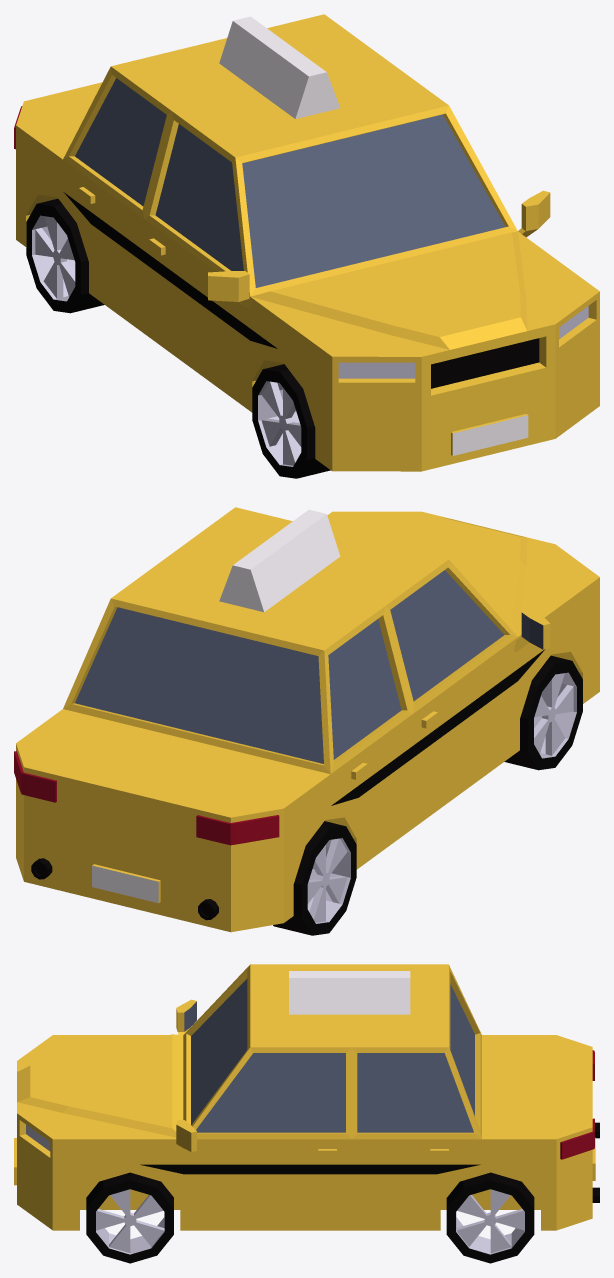
Rendered from Taxi.glb.
The picture shows the model from 3 angles, top to bottom: view 1: azimuth 30°, elevation 25°; view 2: azimuth 150°, elevation 25°; view 3: azimuth 270°, elevation 25°; orthographic projection. The views are drawn at different scales.
Visible parts, largest first — view 1: Taxi, Taxi wheel front right, Taxi wheel rear right; view 2: Taxi, Taxi wheel rear right, Taxi wheel front right; view 3: Taxi, Taxi wheel rear left, Taxi wheel front left.
Part boxes in pixels (x1,y1,x2,y2): Taxi: (14, 14, 599, 471); Taxi wheel front right: (252, 364, 330, 478); Taxi wheel rear right: (26, 198, 104, 313); Taxi: (14, 507, 599, 932); Taxi wheel rear right: (273, 821, 356, 935); Taxi wheel front right: (504, 655, 582, 770); Taxi: (14, 964, 599, 1230); Taxi wheel rear left: (446, 1172, 534, 1263); Taxi wheel front left: (86, 1172, 173, 1263).
Bounding box in the file's own units: 281 × 232 × 523.
